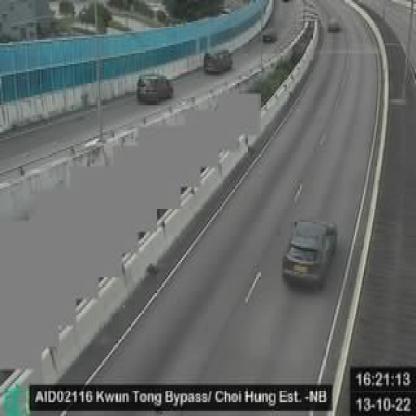Car: (280, 218, 338, 291), (136, 72, 172, 104), (203, 49, 232, 75), (327, 16, 342, 34), (261, 31, 275, 45)
